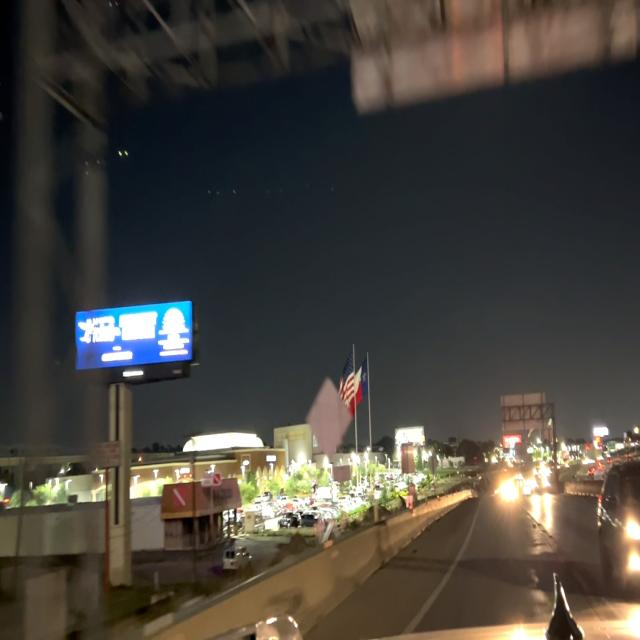back-of-sign: (337, 0, 640, 122), (302, 376, 350, 459), (498, 387, 547, 437)
